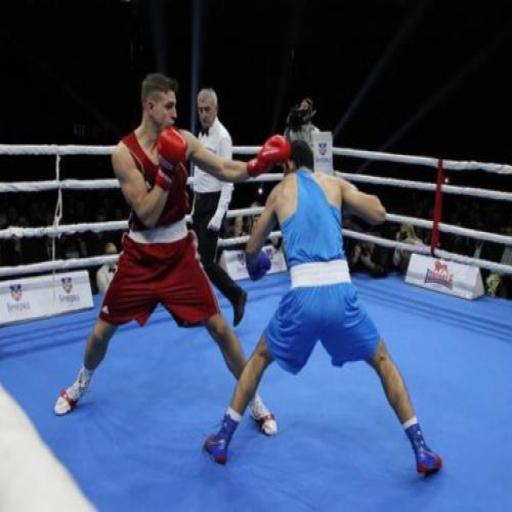boxing: (194, 89, 482, 512), (53, 70, 289, 437)
